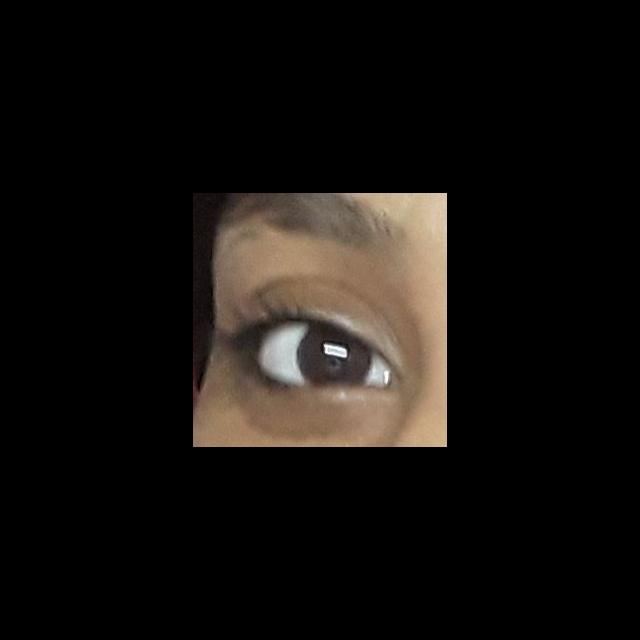eye: (257, 318, 388, 390)
iris: (298, 321, 372, 388)
